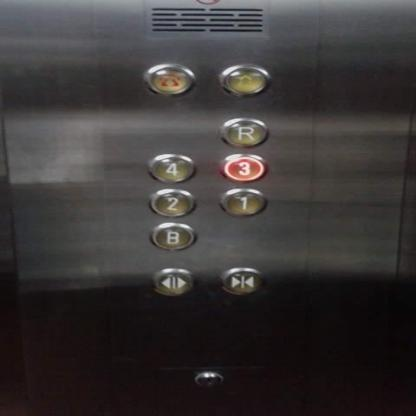1: (213, 184, 271, 219)
2: (142, 184, 200, 219)
3: (214, 149, 272, 184)
4: (141, 150, 200, 185)
B: (142, 218, 200, 254)
R: (214, 114, 272, 150)
alarm: (211, 61, 274, 98)
call: (139, 61, 201, 97)
close: (213, 265, 266, 296)
keyhole: (182, 364, 235, 395)
open: (146, 265, 198, 297)
